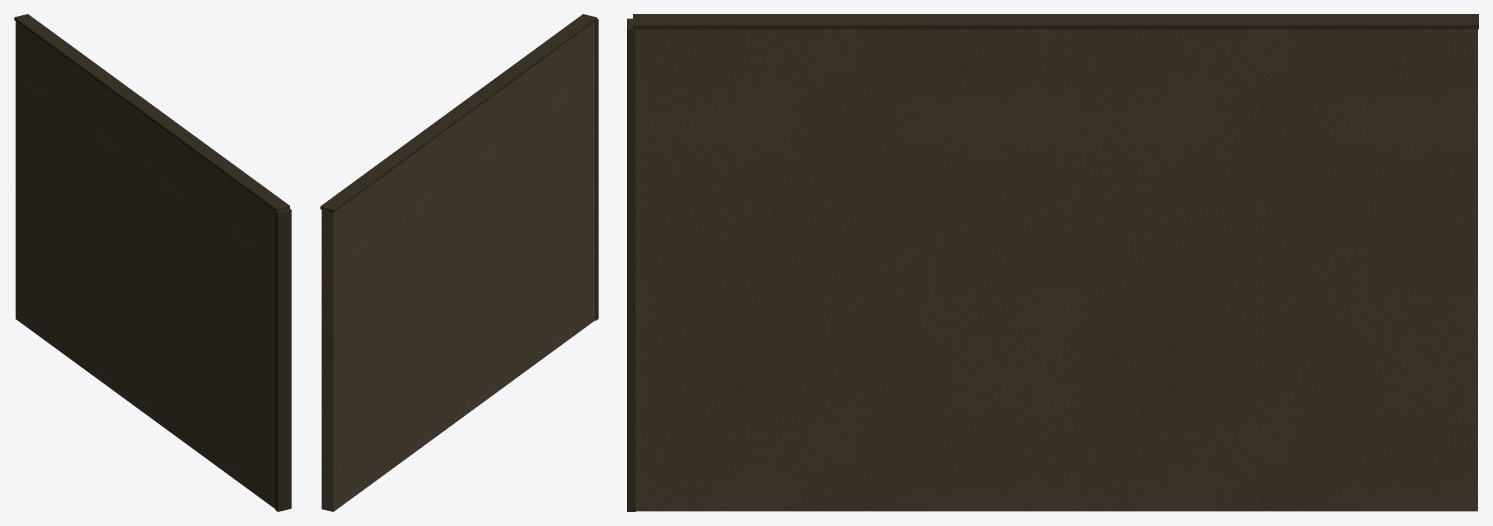
File: parede_esquerda.glb
3 views of the same model, side by side, from view 1: azimuth 30°, elevation 25°; view 2: azimuth 150°, elevation 25°; view 3: azimuth 270°, elevation 25° (orthographic). The views are drawn at different scales.
Parts seen in each view (by area): view 1: parede_esquerda; view 2: parede_esquerda; view 3: parede_esquerda.
Boxes of the visible parts, x1,y1,x2,y2 form: parede_esquerda: (14, 14, 291, 511); parede_esquerda: (320, 14, 598, 511); parede_esquerda: (627, 14, 1478, 511).
Bounding box in the file's own units: 0.126 × 2.62 × 4.16.
Materials: 2 (1 with a texture image).
